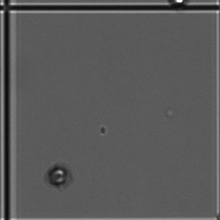Dead Cell: (44, 161, 78, 194)
